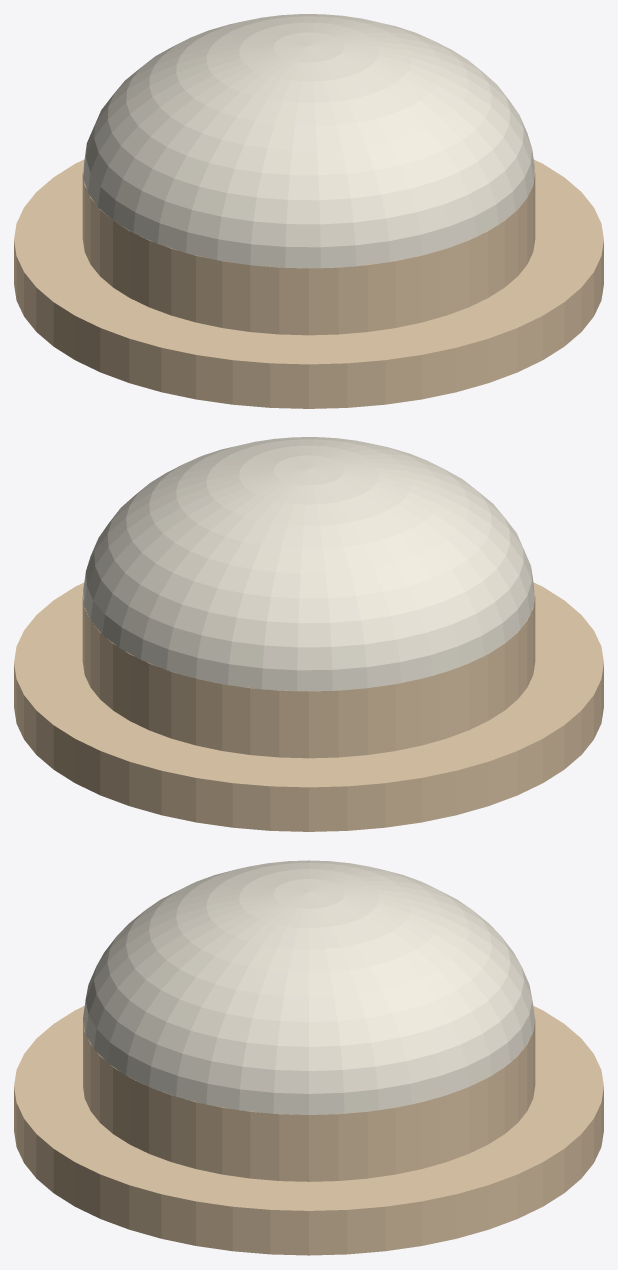
Rendered from stupa_cut.glb.
The picture shows the model from 3 angles, top to bottom: view 1: azimuth 30°, elevation 25°; view 2: azimuth 150°, elevation 25°; view 3: azimuth 270°, elevation 25°; orthographic projection.
Visible parts, largest first — view 1: stupa_cut; view 2: stupa_cut; view 3: stupa_cut.
Part boxes in pixels (x1,y1,x2,y2): stupa_cut: (14,14,603,408); stupa_cut: (14,437,603,831); stupa_cut: (14,860,603,1255).
Size of the model in its own units: 22.42 by 10 by 22.42.
